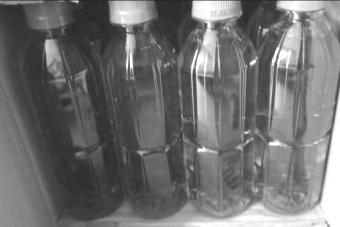bottle: (21, 2, 125, 219), (105, 1, 191, 219), (254, 1, 340, 214), (179, 1, 256, 218)
